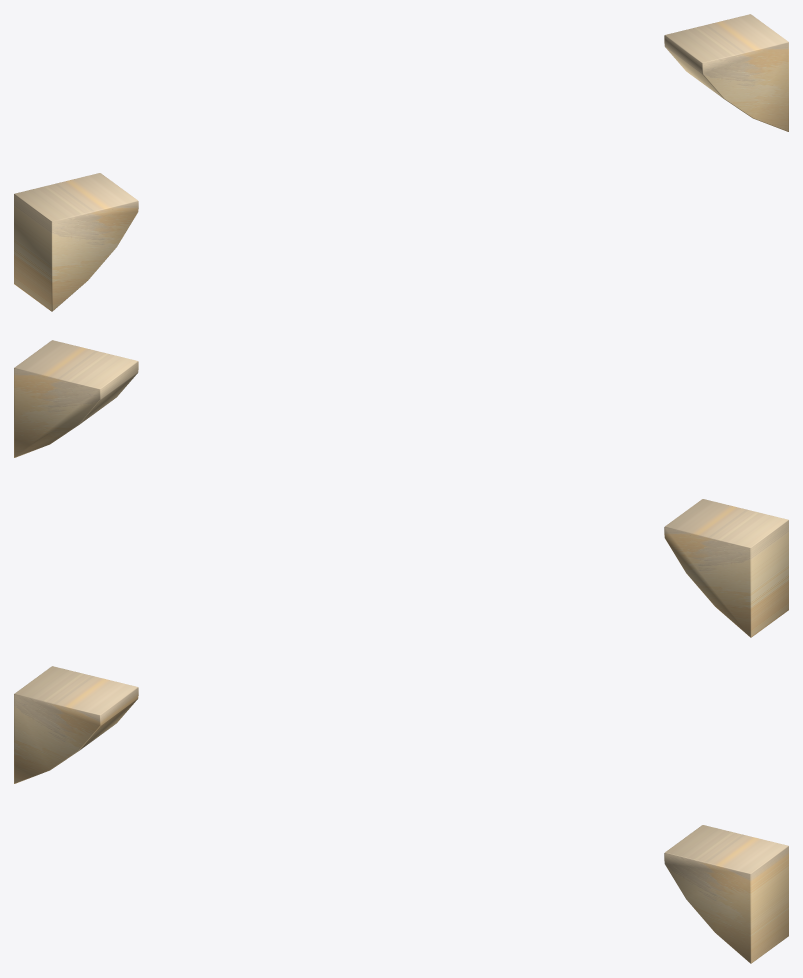
Rendered from CM_C05_EntranceReturns.fbx.
3 views of the same model, one above another, from view 1: azimuth 30°, elevation 25°; view 2: azimuth 150°, elevation 25°; view 3: azimuth 330°, elevation 25° (orthographic).
Parts seen in each view (by area): view 1: CM_C05_EntranceReturns; view 2: CM_C05_EntranceReturns; view 3: CM_C05_EntranceReturns.
Boxes of the visible parts, left/top/right/bottom form: CM_C05_EntranceReturns: left=14, top=14, right=788, bottom=311; CM_C05_EntranceReturns: left=14, top=340, right=788, bottom=637; CM_C05_EntranceReturns: left=14, top=666, right=788, bottom=963.
Size of the model in its own units: 2.04 by 0.2393 by 0.184.
